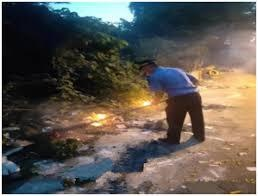fire: (83, 109, 110, 128)
